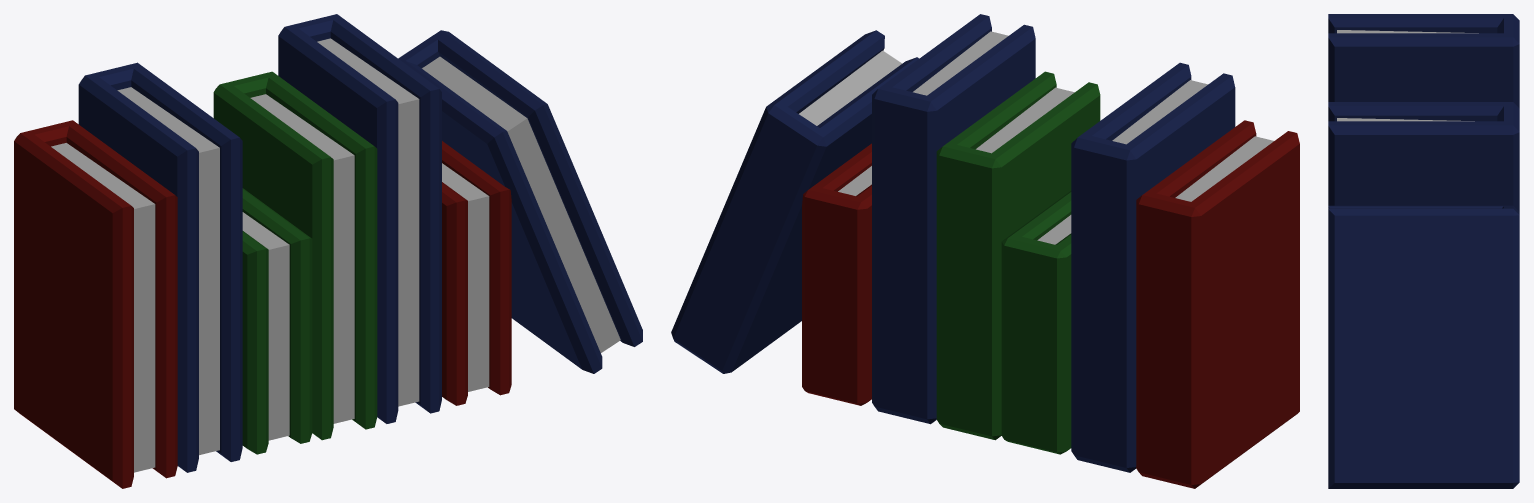
File: hh_books.glb
The picture shows the model from 3 angles, left to right: view 1: azimuth 30°, elevation 25°; view 2: azimuth 150°, elevation 25°; view 3: azimuth 270°, elevation 25°; orthographic projection. The views are drawn at different scales.
Parts seen in each view (by area): view 1: Books_A; view 2: Books_A; view 3: Books_A.
Boxes of the visible parts, x1,y1,x2,y2 form: Books_A: (14, 14, 642, 488); Books_A: (671, 14, 1299, 488); Books_A: (1328, 14, 1519, 488).
Bounding box in the file's own units: 0.5096 × 0.2967 × 0.1763.
